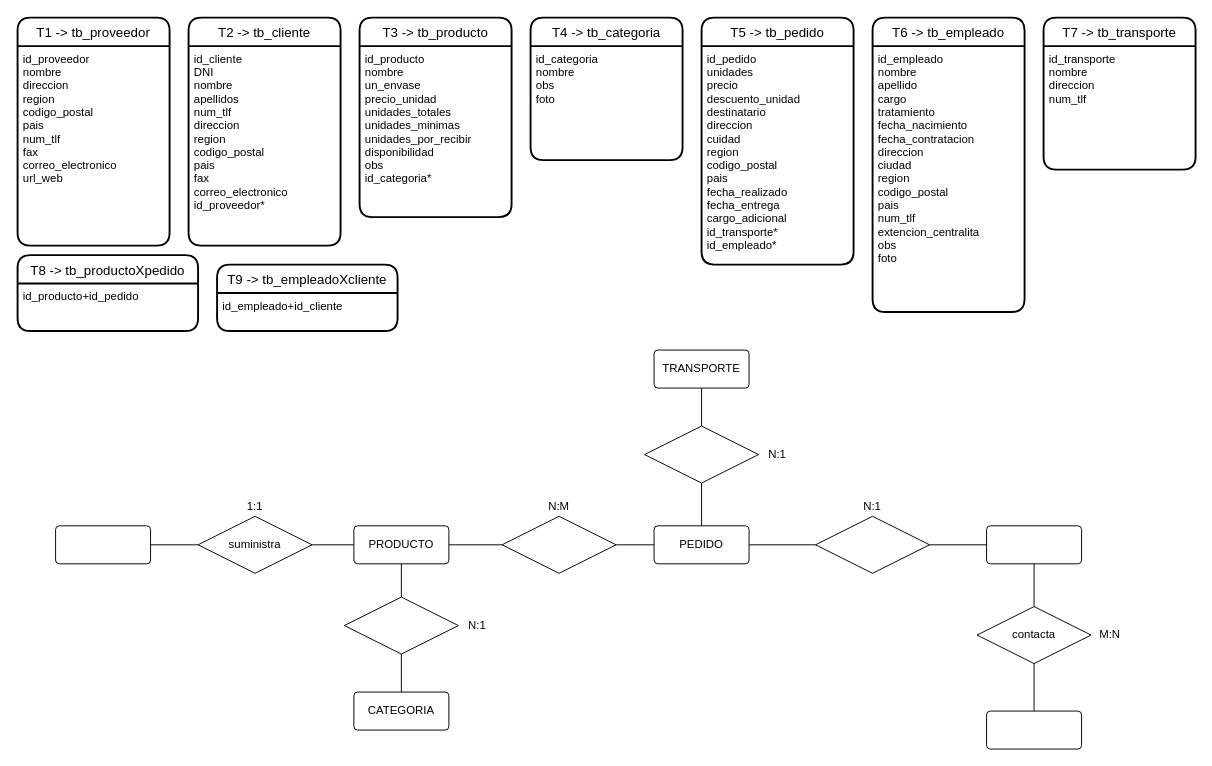
Image size: 1212x766. Some labels were removed from this diagram. The centre of each missing label's shape, as x and y in pixels:
CLIENTE: [1034,729]
compuesto: [558,544]
EMPLEADO: [1034,544]
entregado: [701,454]
PROVEEDOR: [103,544]
realizado: [872,544]
tiene: [400,625]
